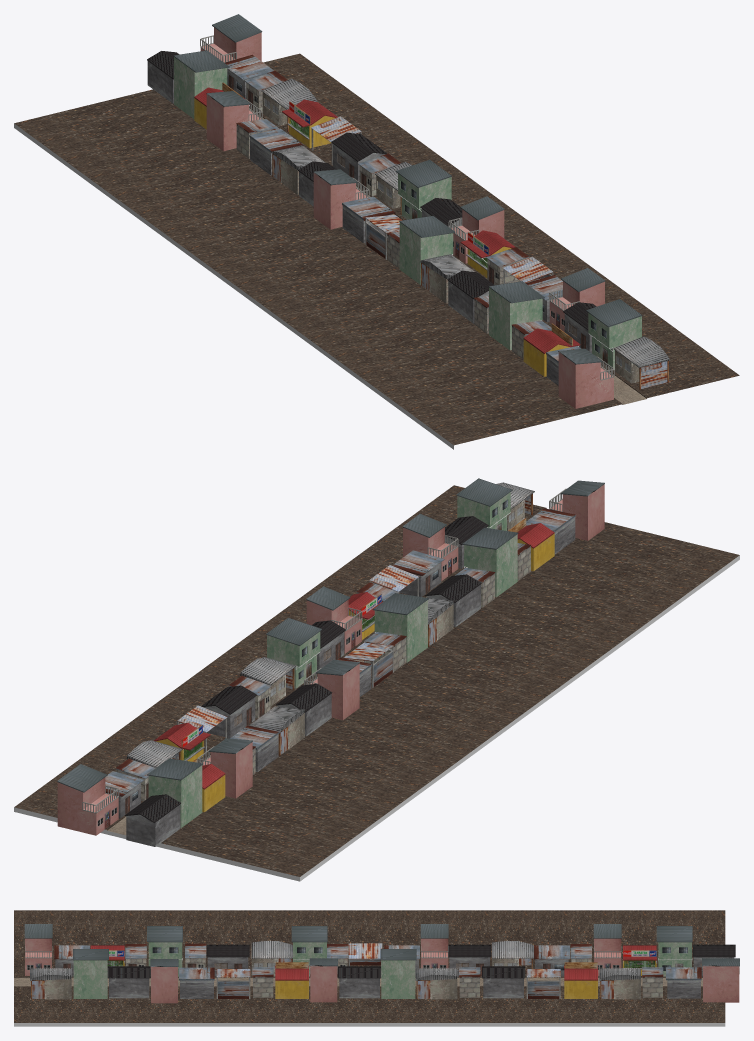
The model's file is InfinitePath.glb.
3 renders of one model, top to bottom at view 1: azimuth 30°, elevation 25°; view 2: azimuth 150°, elevation 25°; view 3: azimuth 270°, elevation 25°, orthographic. The views are drawn at different scales.
Parts seen in each view (by area): view 1: Ground-col, House1.e-col, House3.b-col, House3.a-col, House3.d-col, House3.e-col, House3.c-col, House4.d-col, House1.d-col, House1.a-col, House1.f-col, House1.b-col (+25 smaller); view 2: Ground-col, House1.f-col, House3.b-col, House3.a-col, House3.c-col, House3.e-col, House6.e-col, House1.e-col, House3.d-col, House1.d-col, House1.c-col, House1.a-col (+26 smaller); view 3: Ground-col, House3.c-col, House3.d-col, House1.f-col, House3.e-col, House6.d-col, House6.a-col, House6.c-col, House4.c-col, House4.d-col, House4.e-col, House1.e-col (+31 smaller).
Part boxes in pixels (box(x1,y1,x2,y2)): Ground-col: box(14, 53, 739, 449); House1.e-col: box(558, 348, 613, 408); House3.b-col: box(488, 281, 544, 350); House3.a-col: box(399, 215, 455, 284); House3.d-col: box(586, 299, 642, 370); House3.e-col: box(173, 50, 229, 118); House3.c-col: box(395, 159, 451, 219); House4.d-col: box(613, 336, 669, 389); House1.d-col: box(206, 91, 260, 151); House1.a-col: box(313, 169, 367, 229); House1.f-col: box(200, 14, 262, 62); House1.b-col: box(451, 196, 504, 263); Ground-col: box(14, 485, 739, 881); House1.f-col: box(57, 764, 118, 835); House3.b-col: box(462, 527, 518, 597); House3.a-col: box(372, 593, 428, 662); House3.c-col: box(266, 617, 322, 688); House3.e-col: box(147, 758, 203, 827); House6.e-col: box(124, 794, 180, 846); House1.e-col: box(550, 480, 604, 540); House3.d-col: box(456, 478, 512, 530); House1.d-col: box(203, 738, 252, 798); House1.c-col: box(402, 514, 458, 580); House1.a-col: box(310, 660, 359, 720); Ground-col: box(14, 910, 725, 1026); House3.c-col: box(380, 949, 416, 998); House3.d-col: box(73, 949, 108, 998); House1.f-col: box(702, 958, 739, 1002); House3.e-col: box(656, 926, 692, 976); House6.d-col: box(107, 966, 150, 998); House6.a-col: box(338, 966, 380, 998); House6.c-col: box(482, 966, 524, 998); House4.c-col: box(415, 968, 457, 999); House4.d-col: box(30, 968, 71, 999); House4.e-col: box(599, 968, 640, 999); House1.e-col: box(24, 924, 52, 975).
Size of the model in its own units: 39.49 by 7.01 by 107.
9 materials, 7 textured.
